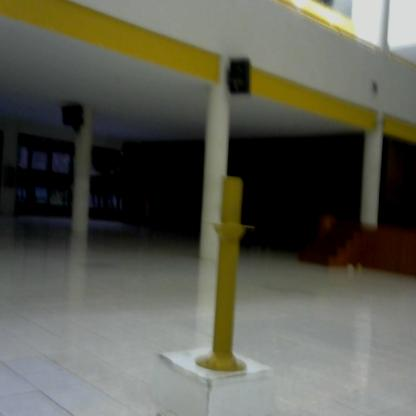pole: (194, 166, 262, 387)
